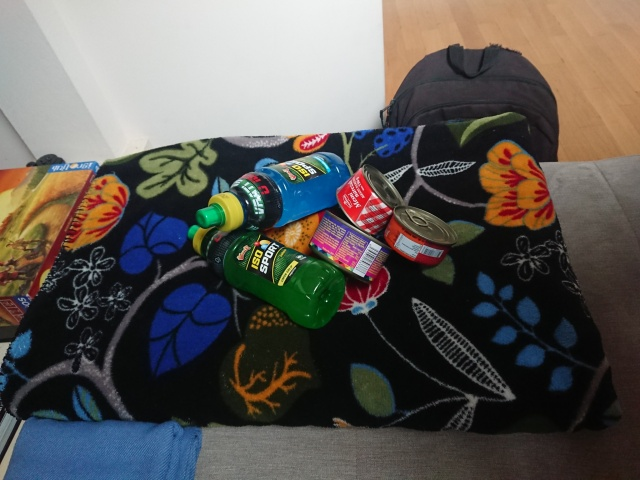Gavrilovic Pork Liver Pate 100g: (382, 203, 460, 269)
Giana Tuna Salad Mexico 185g: (305, 207, 394, 287)
Podravka Luncheon Meat 150g: (333, 161, 407, 239)
Vindi Iso Sport Forest Strawberries 500mL: (193, 150, 354, 235)
Vindi Iso Sport Lemon-Grapefruit 500mL: (184, 221, 348, 332)
